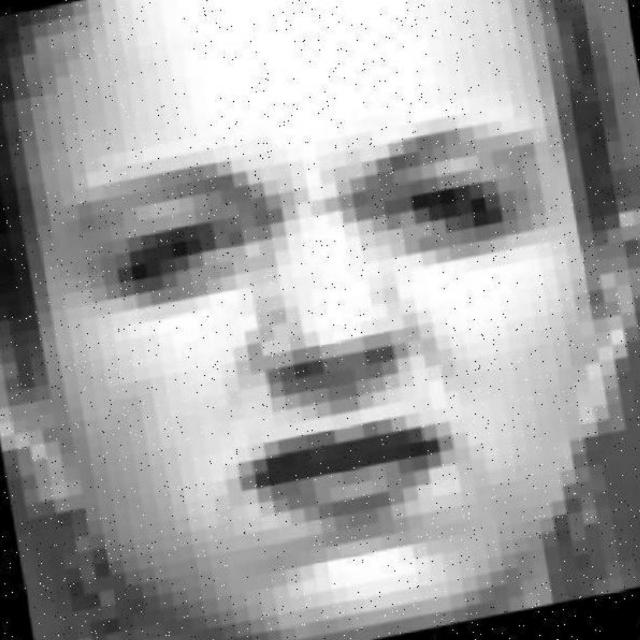Angry: (15, 26, 640, 621)
